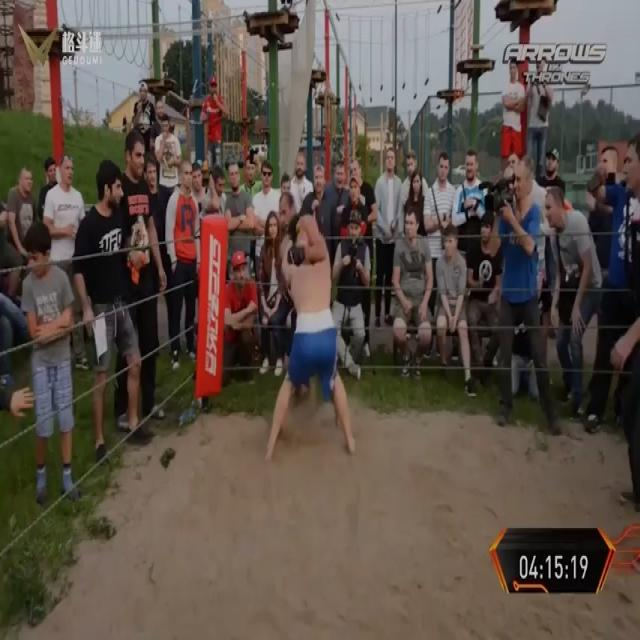fight: (259, 212, 357, 464)
non-fight: (540, 168, 601, 413), (160, 155, 202, 365), (42, 150, 84, 338), (434, 217, 476, 395), (332, 202, 372, 382), (255, 209, 293, 380), (368, 146, 404, 326), (518, 66, 548, 178), (127, 98, 157, 182), (6, 166, 36, 242), (223, 156, 250, 228), (621, 166, 639, 266)
